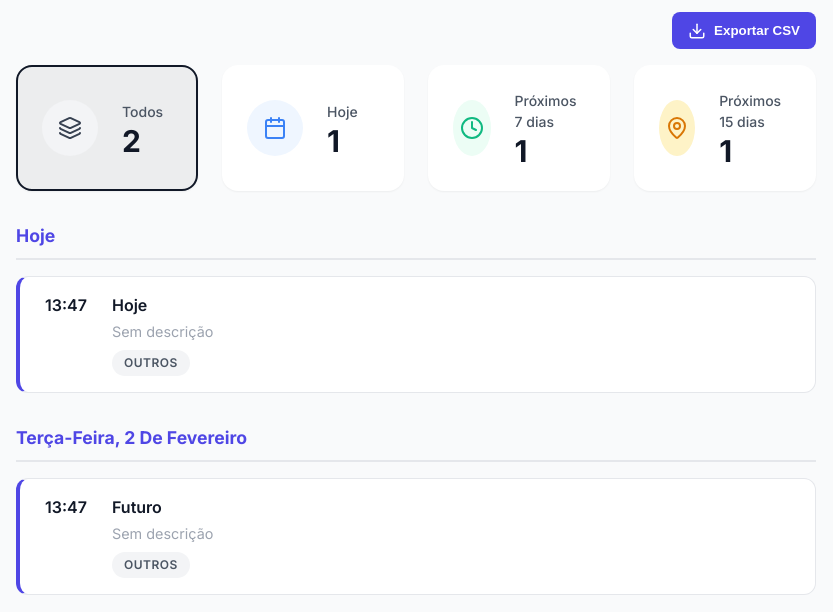
AgendaView Component › deve mostrar todos ao clicar em Todos
Filter Today
What coordinates should you click on to do the following:
click the heading "Hoje" next to "Próximos 7 dias"
I would click on:
 (342, 111)
Its box is [327,101,358,122].
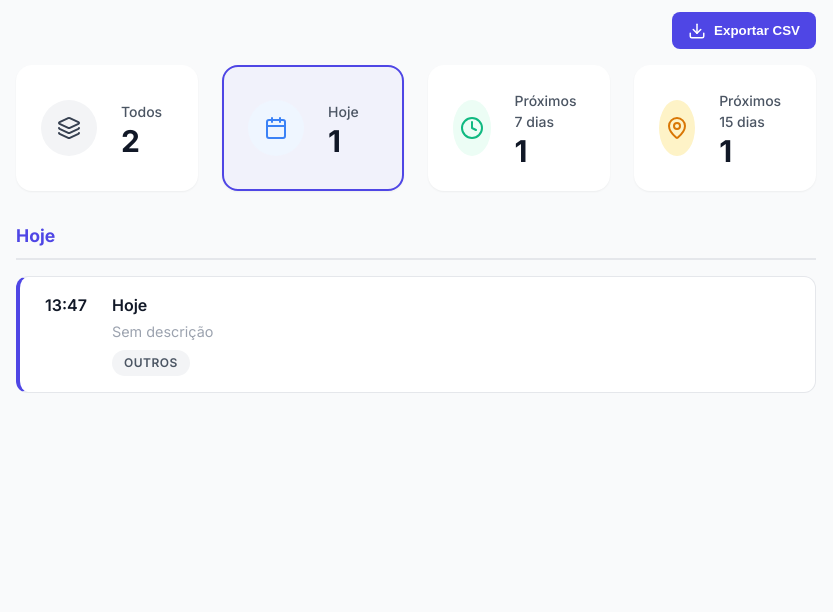
Expected: the heading "Futuro" is gone
What coordinates should you click on to do the following:
click the heading "Todos"
I would click on:
 (142, 111)
Its box is [121,101,162,122].
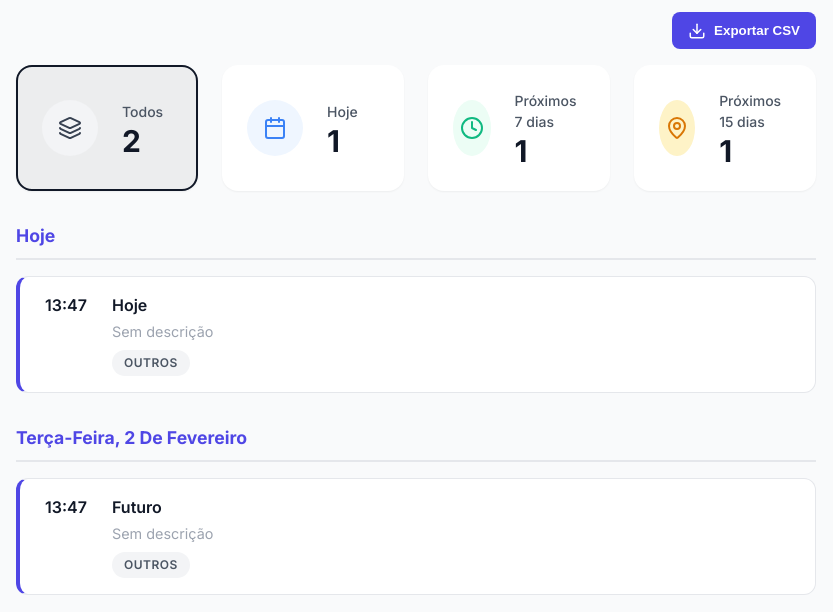
Expected: the heading "Hoje" next to "Próximos 7 dias" is shown, [327,103,358,120]
Expected: the heading "Futuro" is shown, [112,497,162,517]
